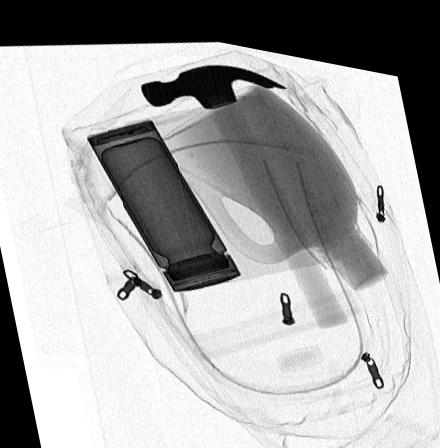Hammer: (139, 55, 349, 316)
